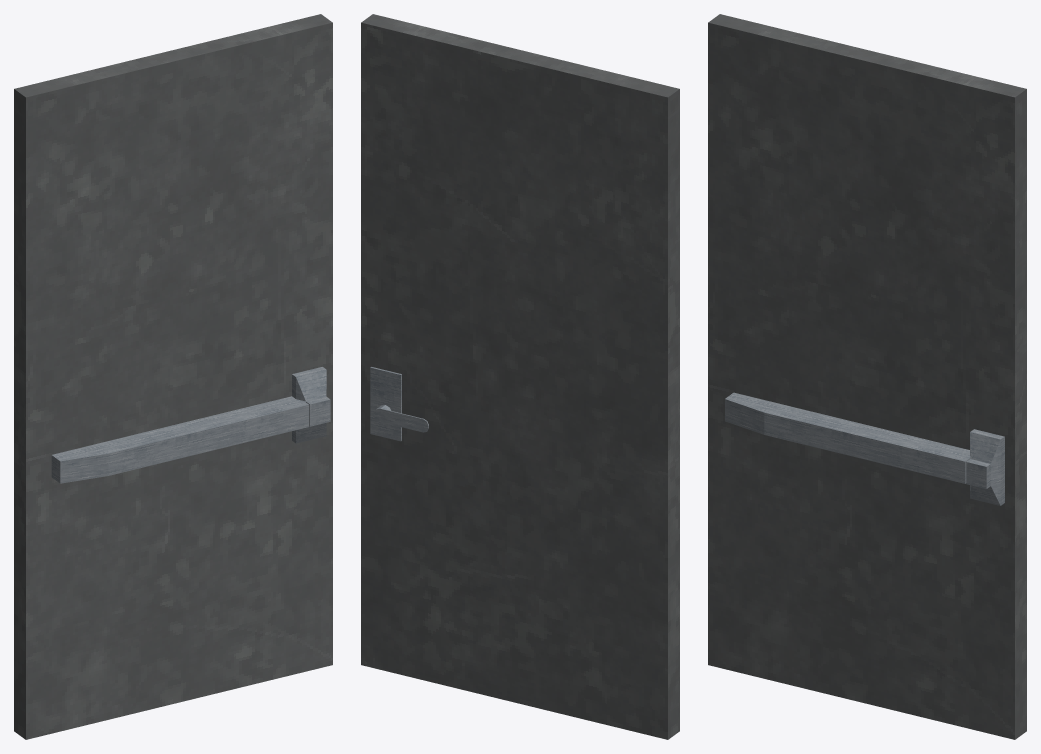
Rendered from facility_door.glb.
3 renders of one model, left to right at view 1: azimuth 30°, elevation 25°; view 2: azimuth 150°, elevation 25°; view 3: azimuth 330°, elevation 25°, orthographic.
Parts seen in each view (by area): view 1: Door; view 2: Door; view 3: Door.
Part boxes in pixels (bbox=[...]): Door: bbox=[14, 14, 332, 739]; Door: bbox=[361, 14, 679, 739]; Door: bbox=[708, 14, 1026, 739].
Size of the model in its own units: 1.5 by 3 by 0.2649.
2 materials, 2 textured.
